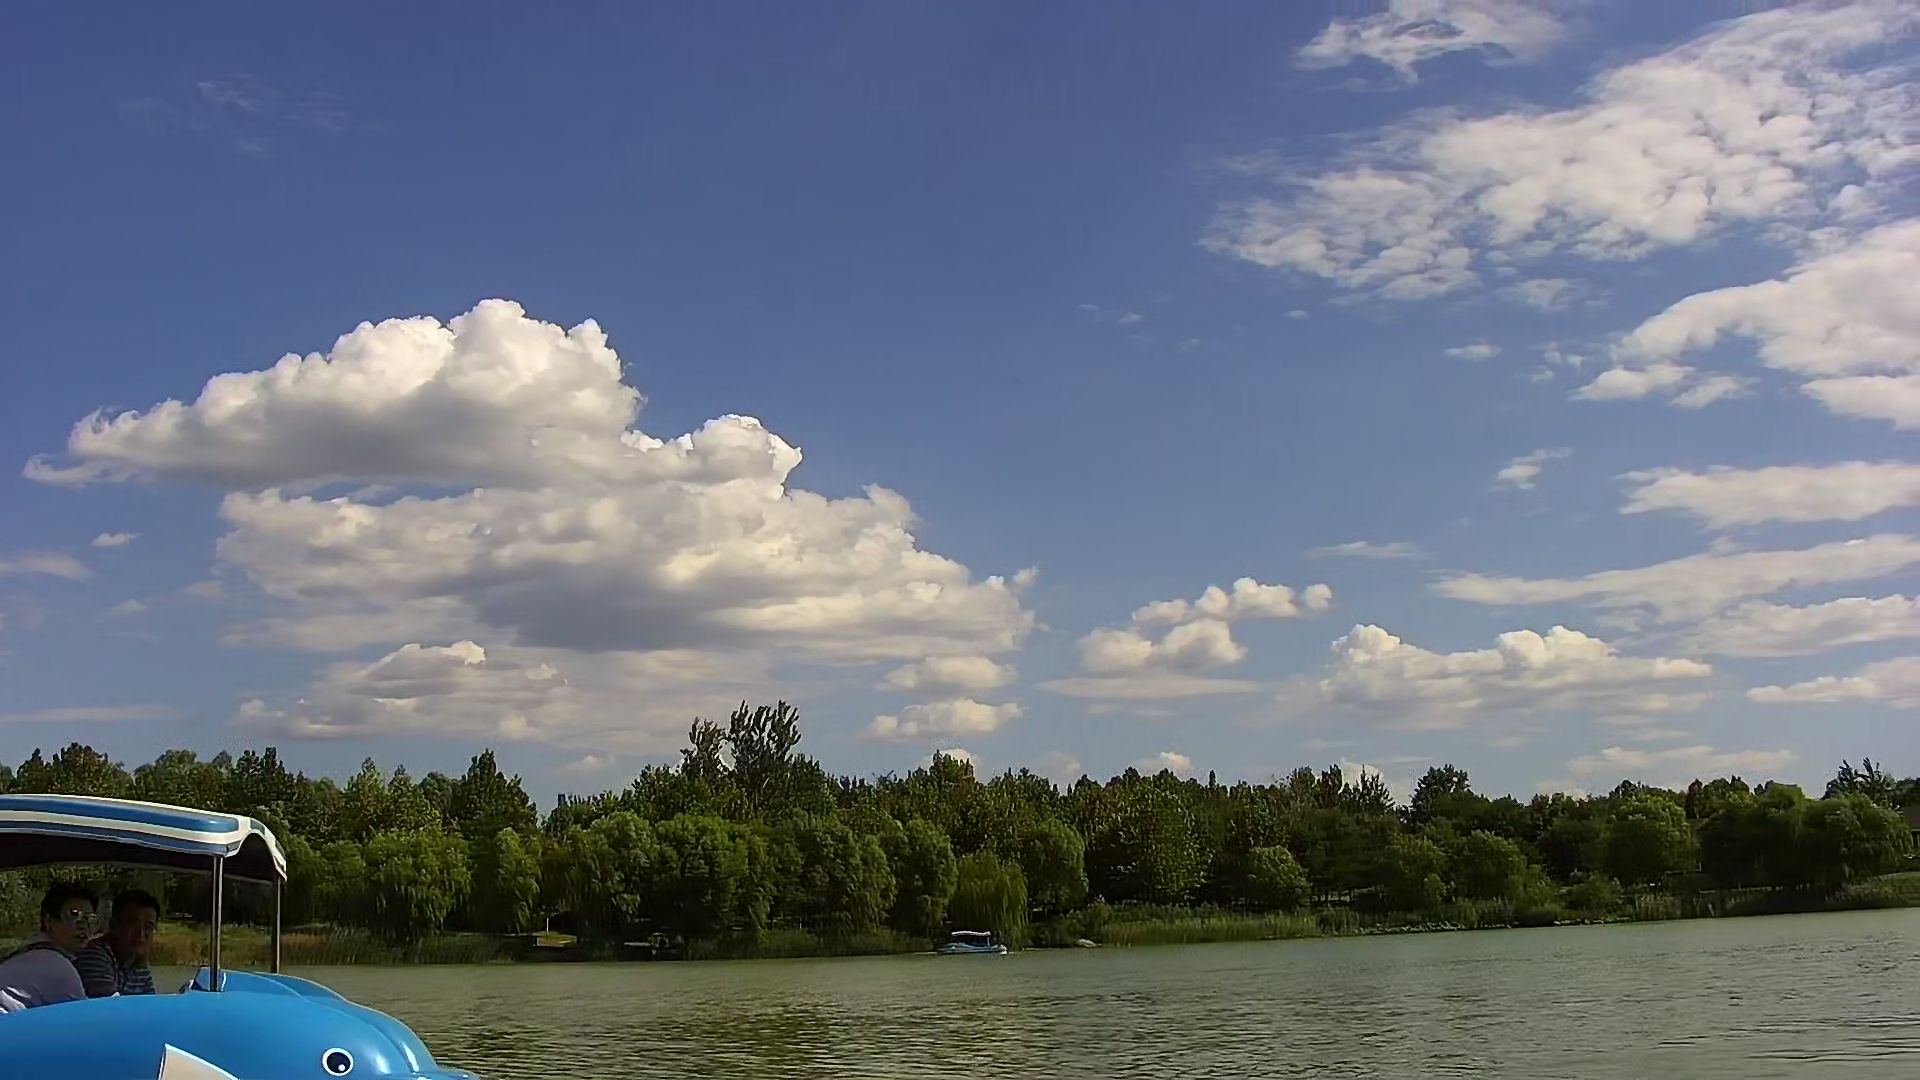boat: (1, 770, 530, 1076), (924, 926, 1011, 964)
person: (7, 884, 99, 1011), (76, 884, 157, 997)
